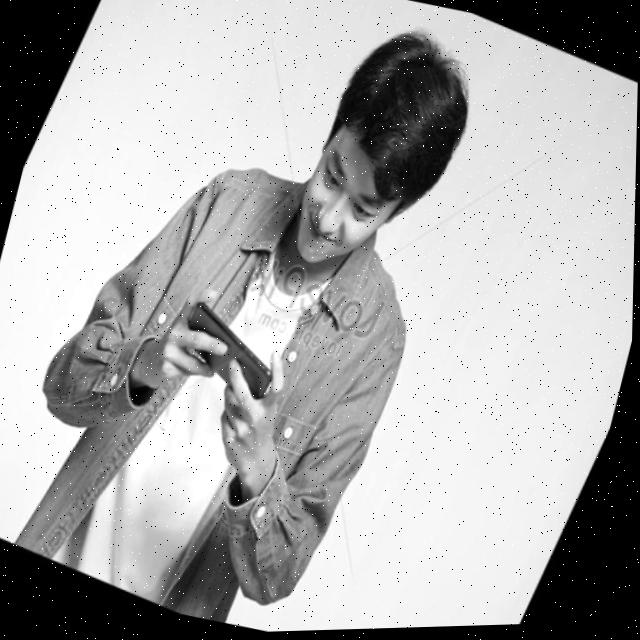phone: (165, 294, 298, 409)
